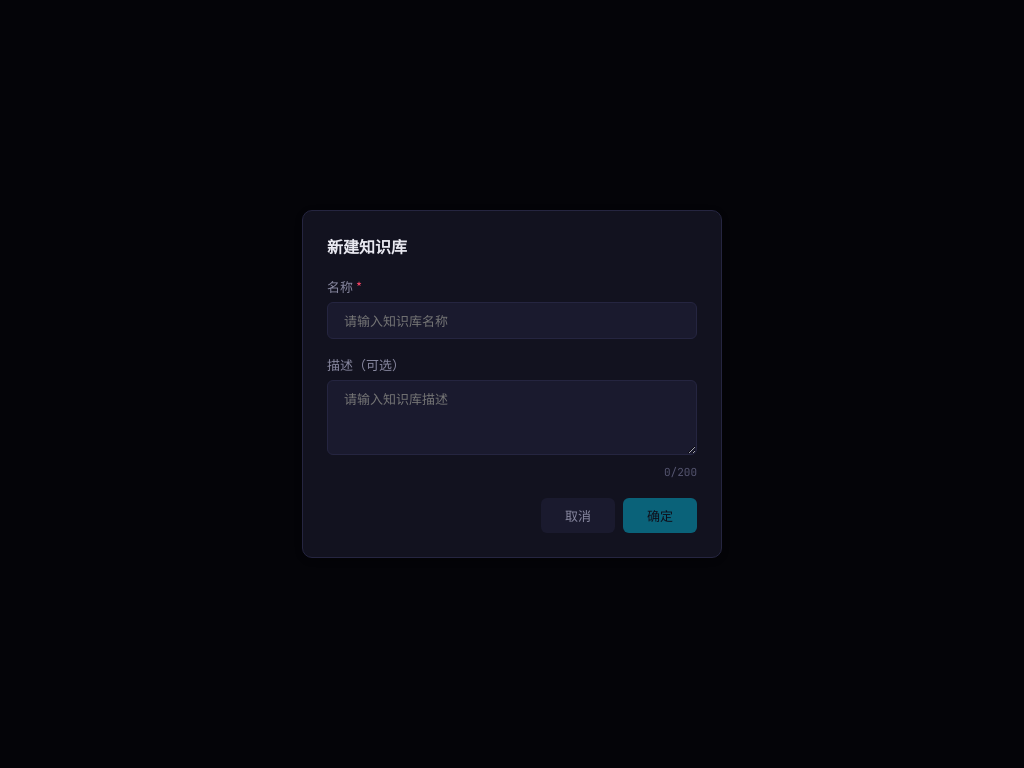
Test: CreateKnowledgeBaseDialog › 名称含非法字符时实时提示，确定禁用（AC-019）
输入含空格和特殊字符的名称
Type "测试@知识库" into the field with class "name-input". click: (512, 320)
box: [327,302,697,339]
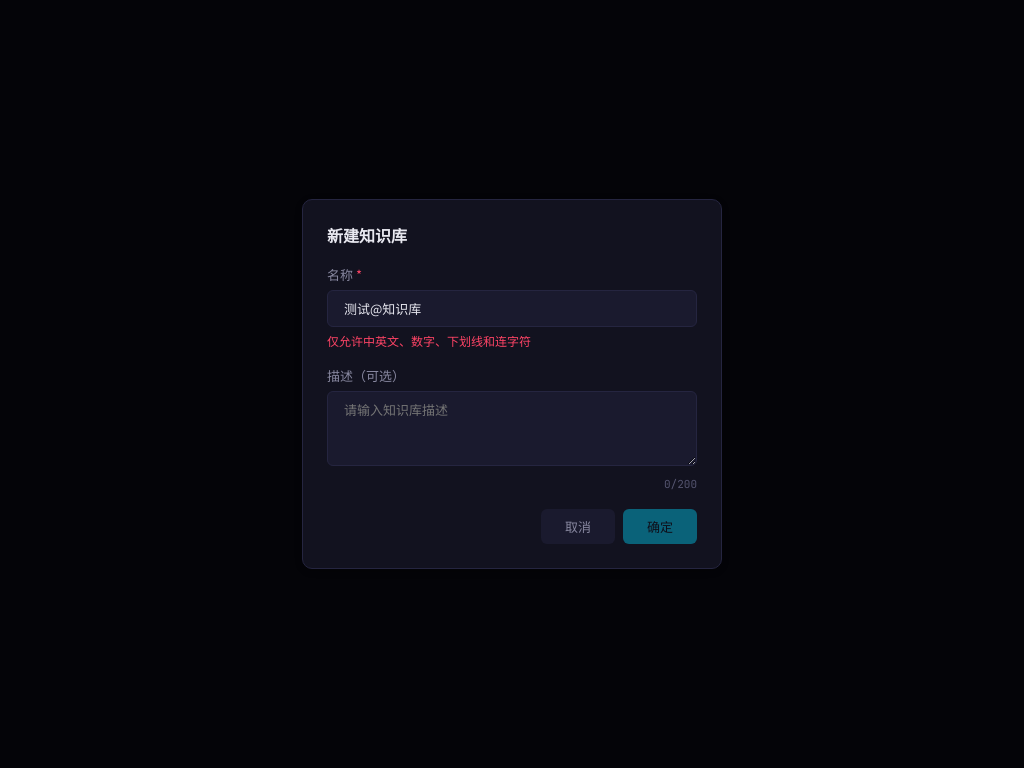
Now the text with class "name-error" shows "仅允许", box [327,332,531,349]
Now the text with class "name-error" shows "中英文", box [327,332,531,349]
Now the text with class "name-error" shows "数字", box [327,332,531,349]
